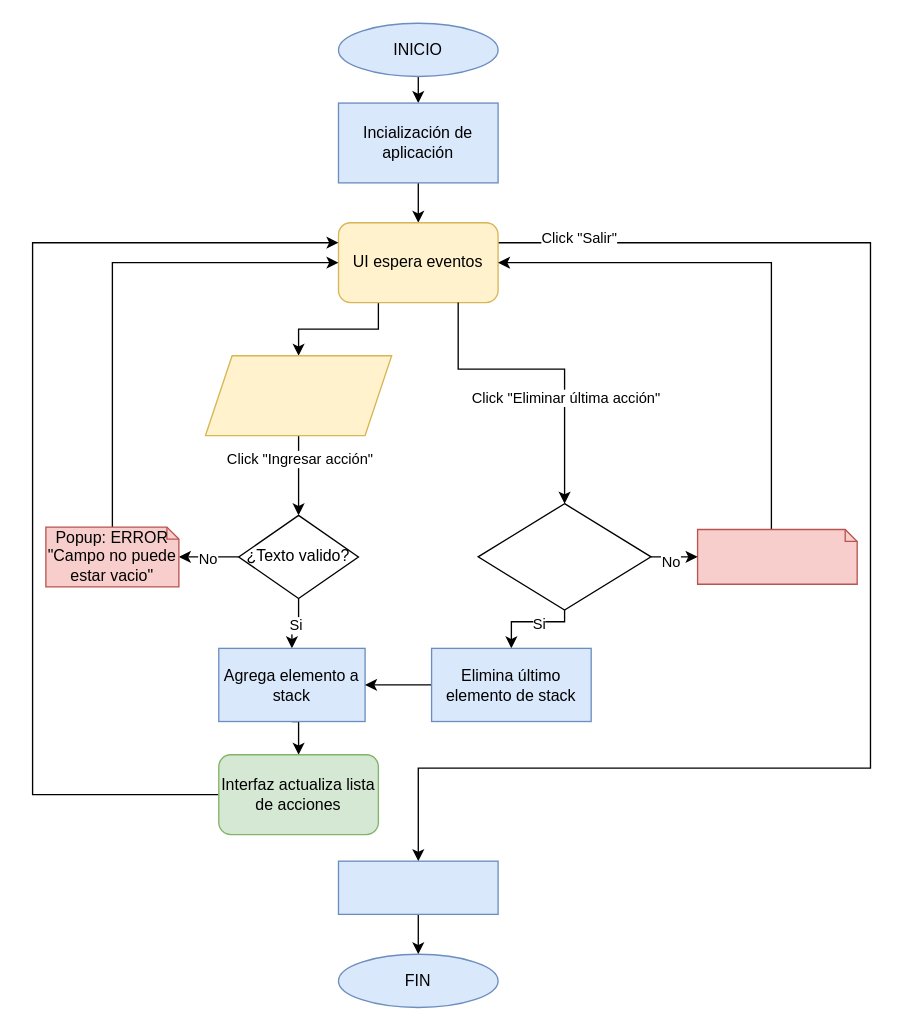
This 904x1031 diagram has some shape labels left out. Here are the shapes that lost their labels. From the top down, the centre of each, then its label:
[298,395]: Usuario ingresa texto
[564,556]: ¿Hay elementos en stack?
[776,556]: Popup: ERROR "No hay acciones en stack"
[417,887]: Cerrar aplicación
